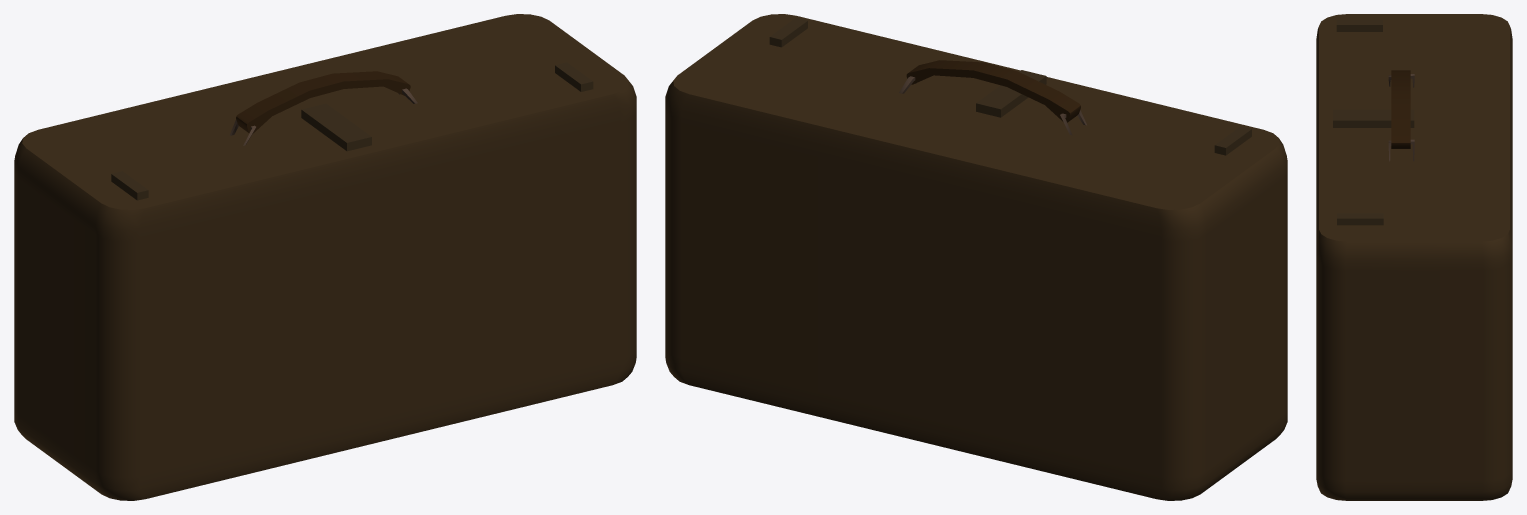
File: suitcase.fbx
3 renders of one model, left to right at view 1: azimuth 30°, elevation 25°; view 2: azimuth 150°, elevation 25°; view 3: azimuth 270°, elevation 25°, orthographic. The views are drawn at different scales.
Parts seen in each view (by area): view 1: polySurface11; view 2: polySurface11; view 3: polySurface11.
Boxes of the visible parts, x1,y1,x2,y2 form: polySurface11: (14,14,636,500); polySurface11: (665,14,1287,500); polySurface11: (1316,14,1512,500).
Size of the model in its own units: 5.74 by 3.37 by 2.04.
